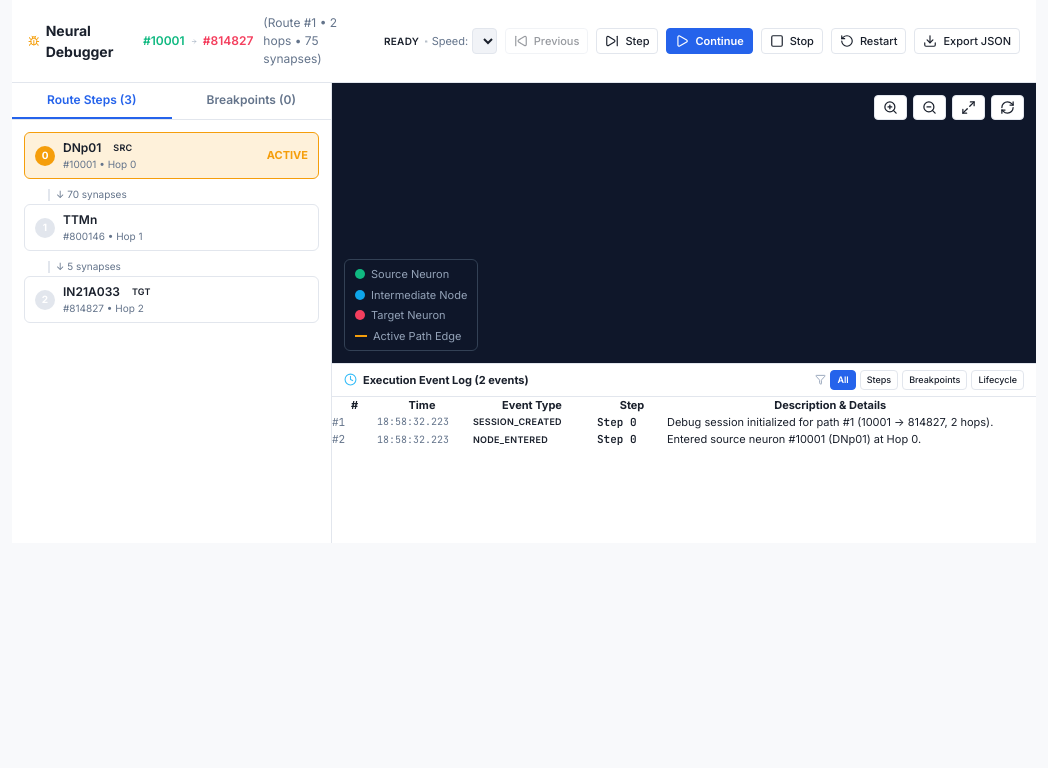
Scenario: NeuralDebugger Component › switches between Route Steps and Breakpoints subtabs
Click the button "Breakpoints (0)".
click(251, 101)  # box [172, 83, 331, 119]
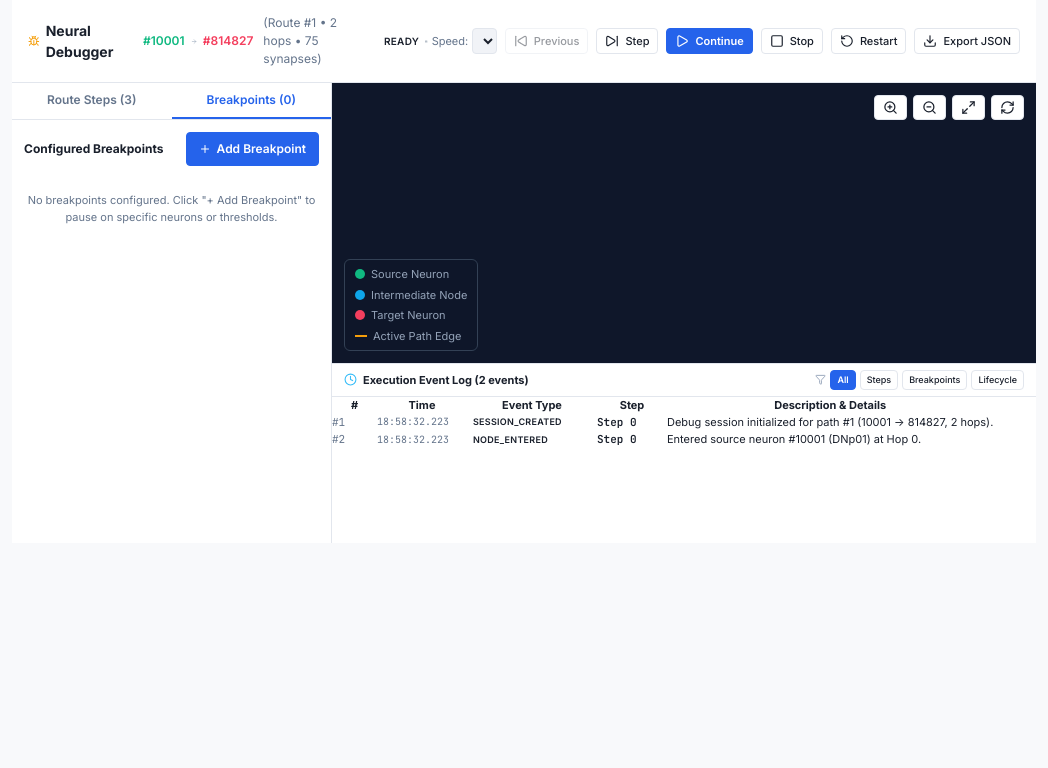
Check: the text "Configured Breakpoints" is shown, box [24, 140, 163, 158]
Check: the text "Add Breakpoint" is shown, box [217, 140, 306, 158]
